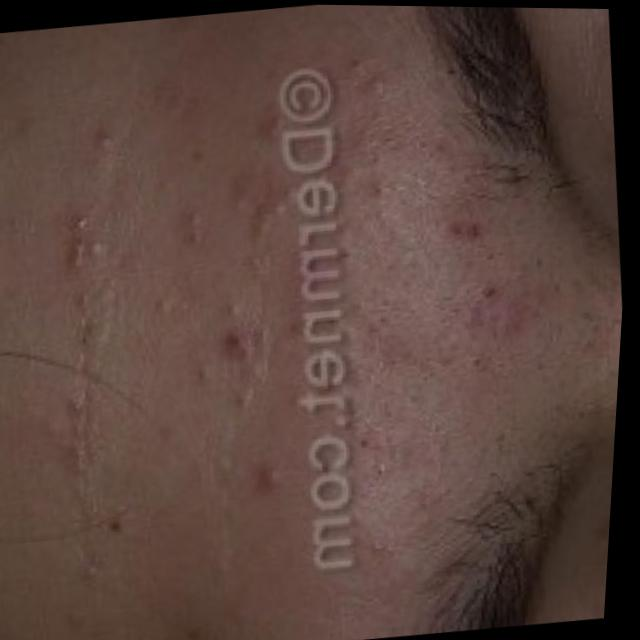Acne: (27, 24, 483, 640)
